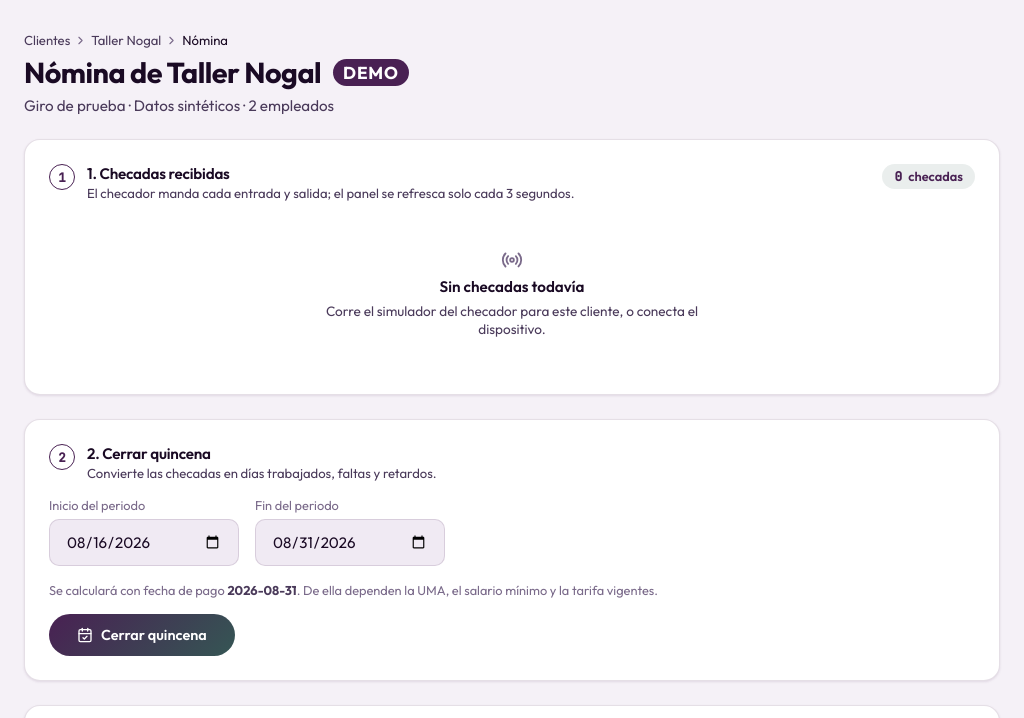
Test case: panel sin checadas › avisa arriba cuando ningún empleado tiene una sola checada
This screenshot has width=1024, height=718.
Check: the date field showing "2026-08-16" is shown, box 49,519 -> 239,566
Click the button "Cerrar quincena".
click(142, 635)  # box 49,614 -> 235,656
(page scrolled)
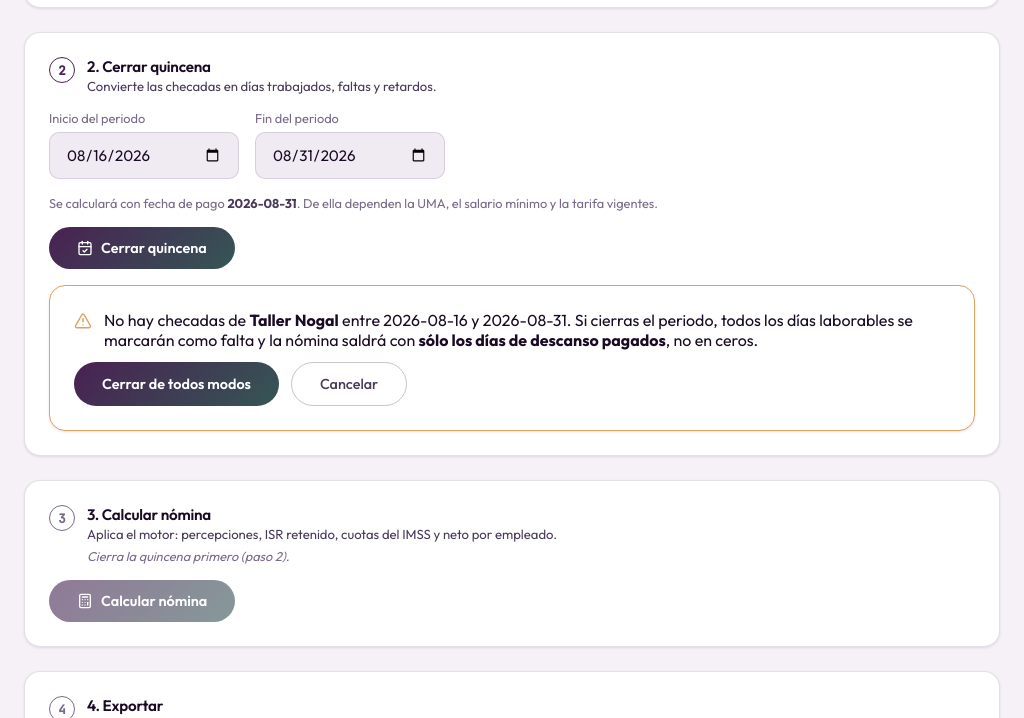
Sin checadas en el periodo, primero pregunta.
Click the button "Cerrar de todos modos".
click(176, 384)  # box 74,362 -> 279,406
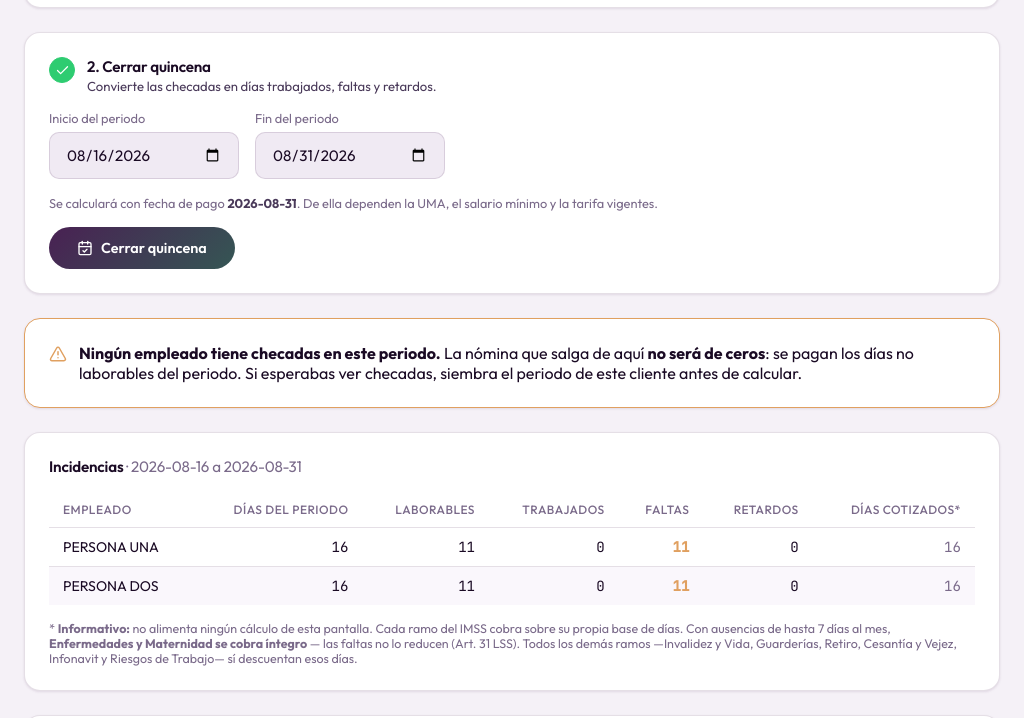
Check: the message shows "Ningún empleado tiene checadas en este periodo", box 79,343 -> 440,363
Check: the message shows "no será de ceros", box 648,343 -> 765,363
